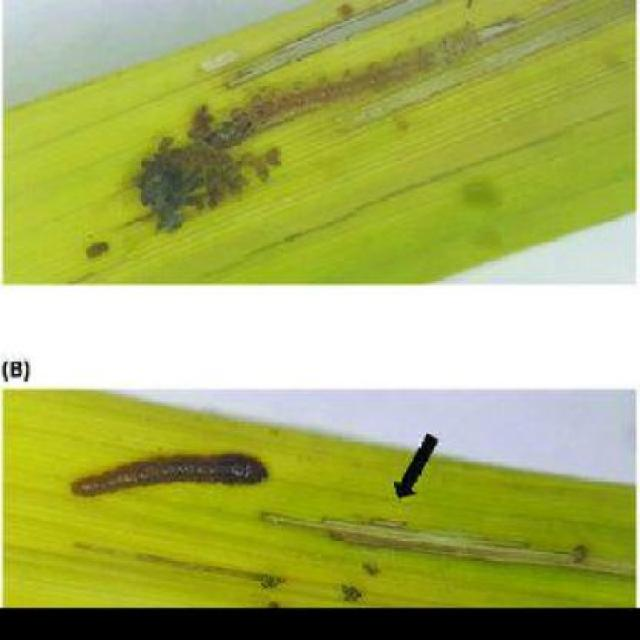leaf-folder: (183, 19, 519, 144), (74, 428, 275, 512), (374, 501, 418, 548)
